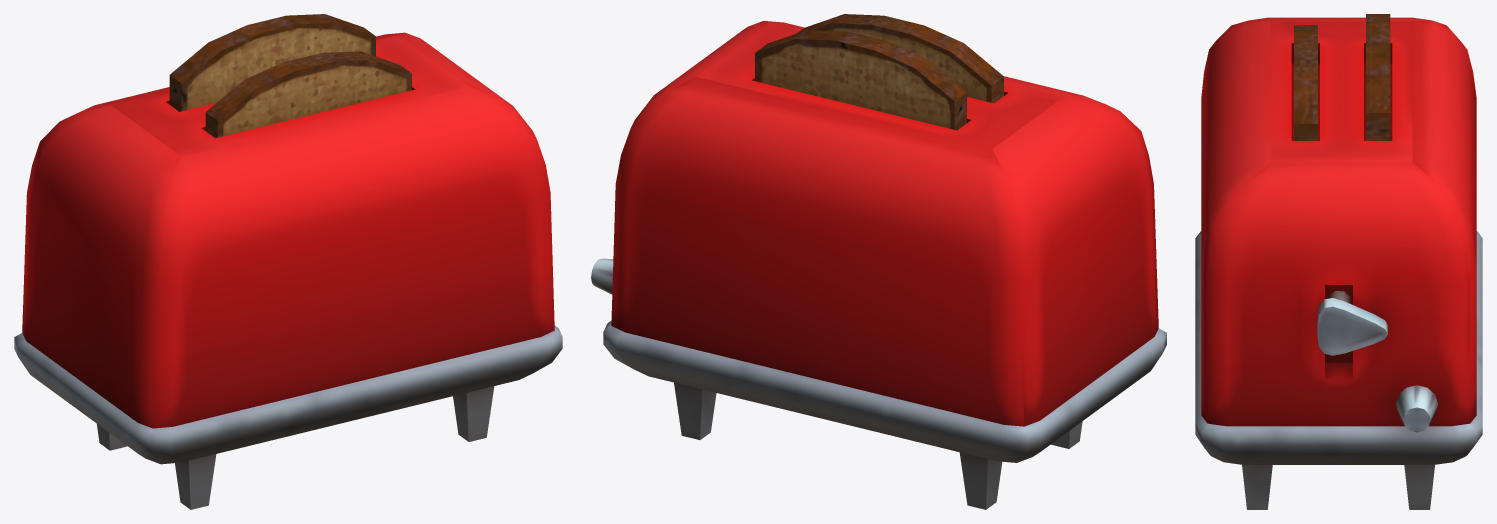
File: Toaster01.FBX
3 renders of one model, left to right at view 1: azimuth 30°, elevation 25°; view 2: azimuth 150°, elevation 25°; view 3: azimuth 270°, elevation 25°, orthographic. The views are drawn at different scales.
Parts seen in each view (by area): view 1: Toaster01; view 2: Toaster01; view 3: Toaster01.
Boxes of the visible parts, x1,y1,x2,y2 form: Toaster01: (14, 14, 562, 509); Toaster01: (591, 14, 1166, 509); Toaster01: (1195, 14, 1482, 509).
Size of what is drawn, in the model's own units: 0.3219 by 0.2733 by 0.1766.
